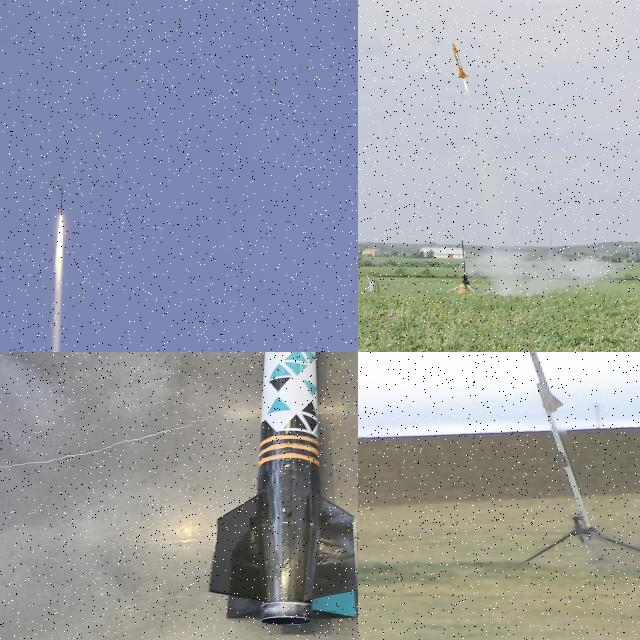Rocket: (207, 352, 358, 626), (512, 352, 565, 413), (451, 42, 469, 79), (60, 185, 64, 218)
